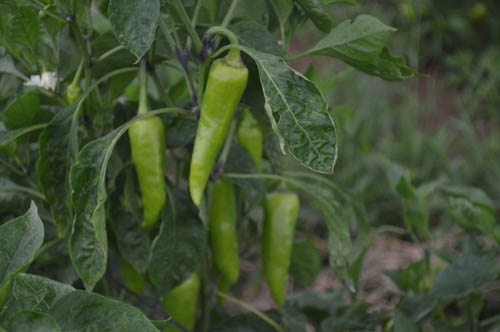ChiliPepper: (183, 55, 253, 222), (122, 112, 172, 228), (202, 179, 247, 282), (260, 187, 299, 304), (156, 271, 201, 332), (240, 114, 267, 165)
